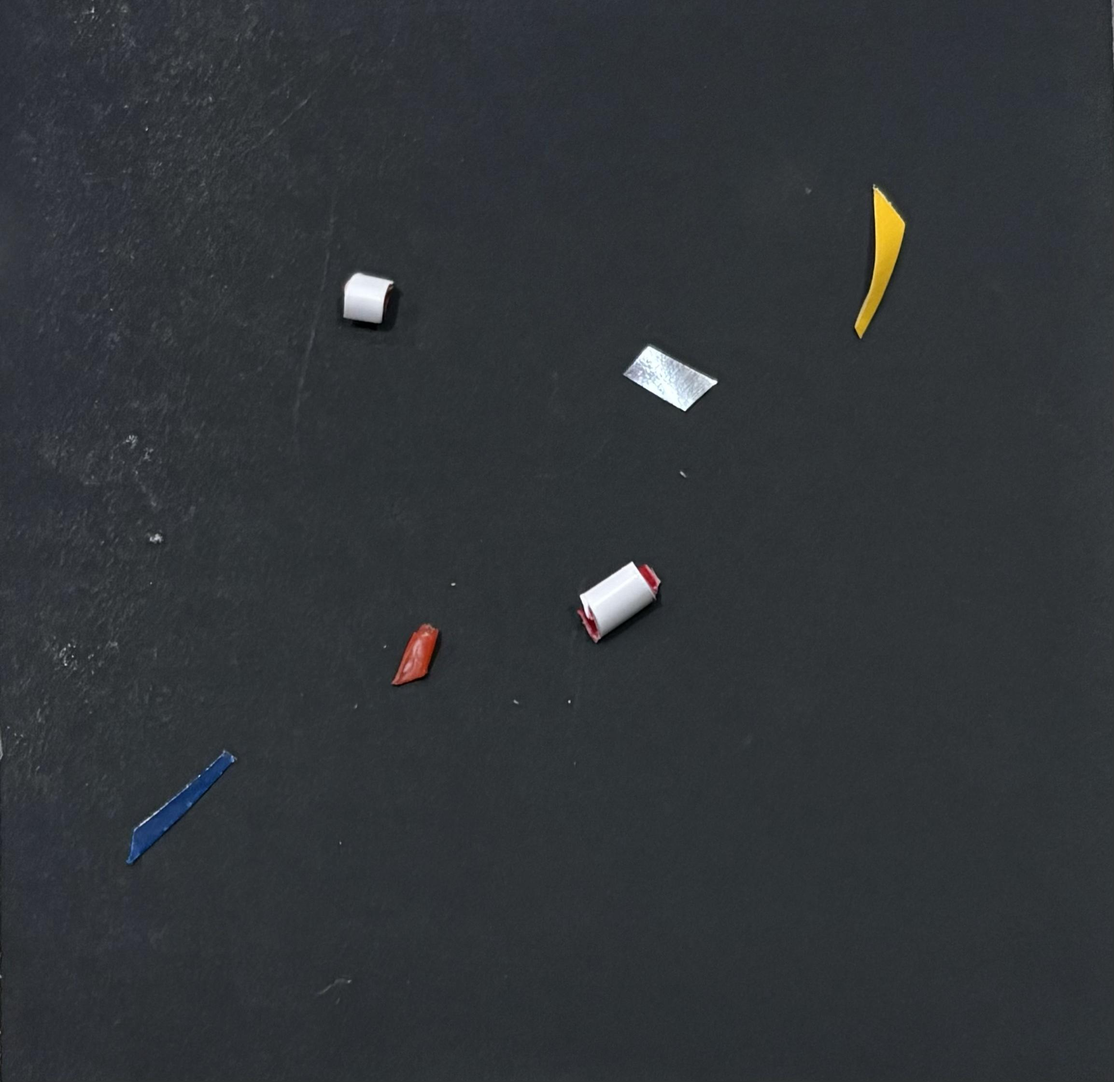Microplastic Particle: (121, 727, 256, 870), (839, 169, 946, 344), (560, 542, 682, 645), (623, 338, 736, 420), (335, 272, 418, 346), (393, 613, 446, 700)
